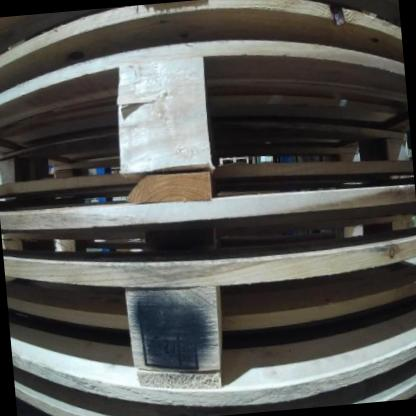pallet: (3, 211, 416, 416), (0, 22, 414, 209)
